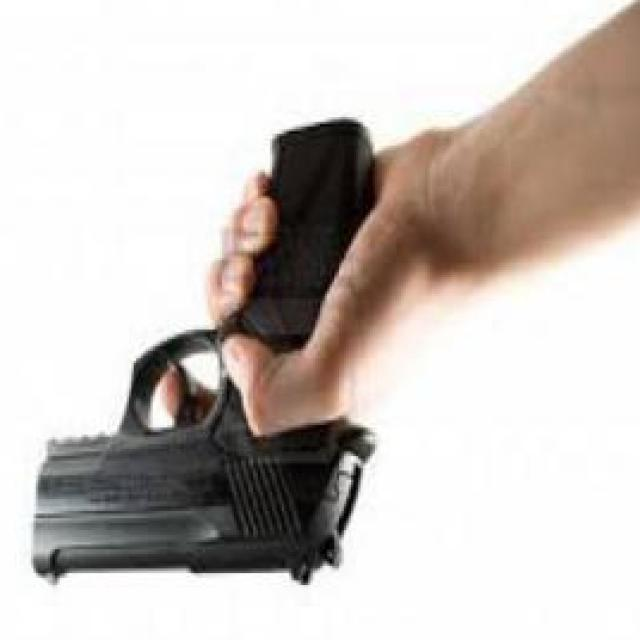pistol: (21, 118, 384, 592)
